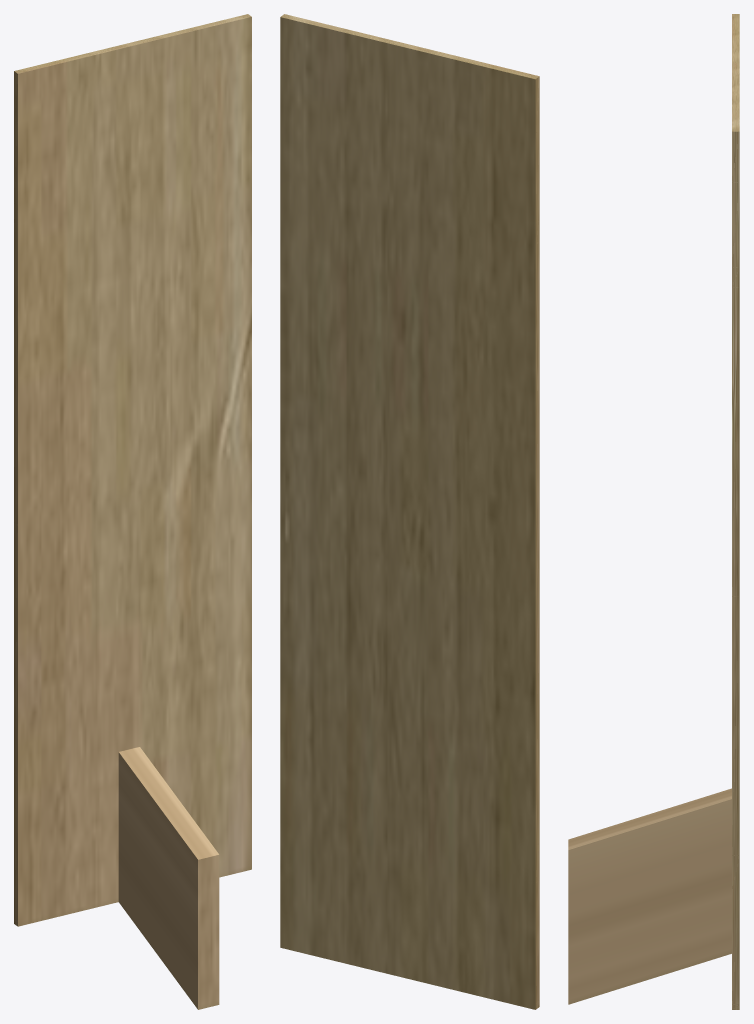
The model's file is Cardboard-Cutout.fbx.
The picture shows the model from 3 angles, left to right: view 1: azimuth 30°, elevation 25°; view 2: azimuth 150°, elevation 25°; view 3: azimuth 270°, elevation 25°; orthographic projection. The views are drawn at different scales.
Visible parts, largest first — view 1: polySurface17; view 2: polySurface17; view 3: polySurface17.
Part boxes in pixels (<box>): polySurface17: <box>14,14,251,1009</box>; polySurface17: <box>280,14,539,1009</box>; polySurface17: <box>568,14,739,1009</box>.
Size of the model in its own units: 2.7 by 9.96 by 1.67.
